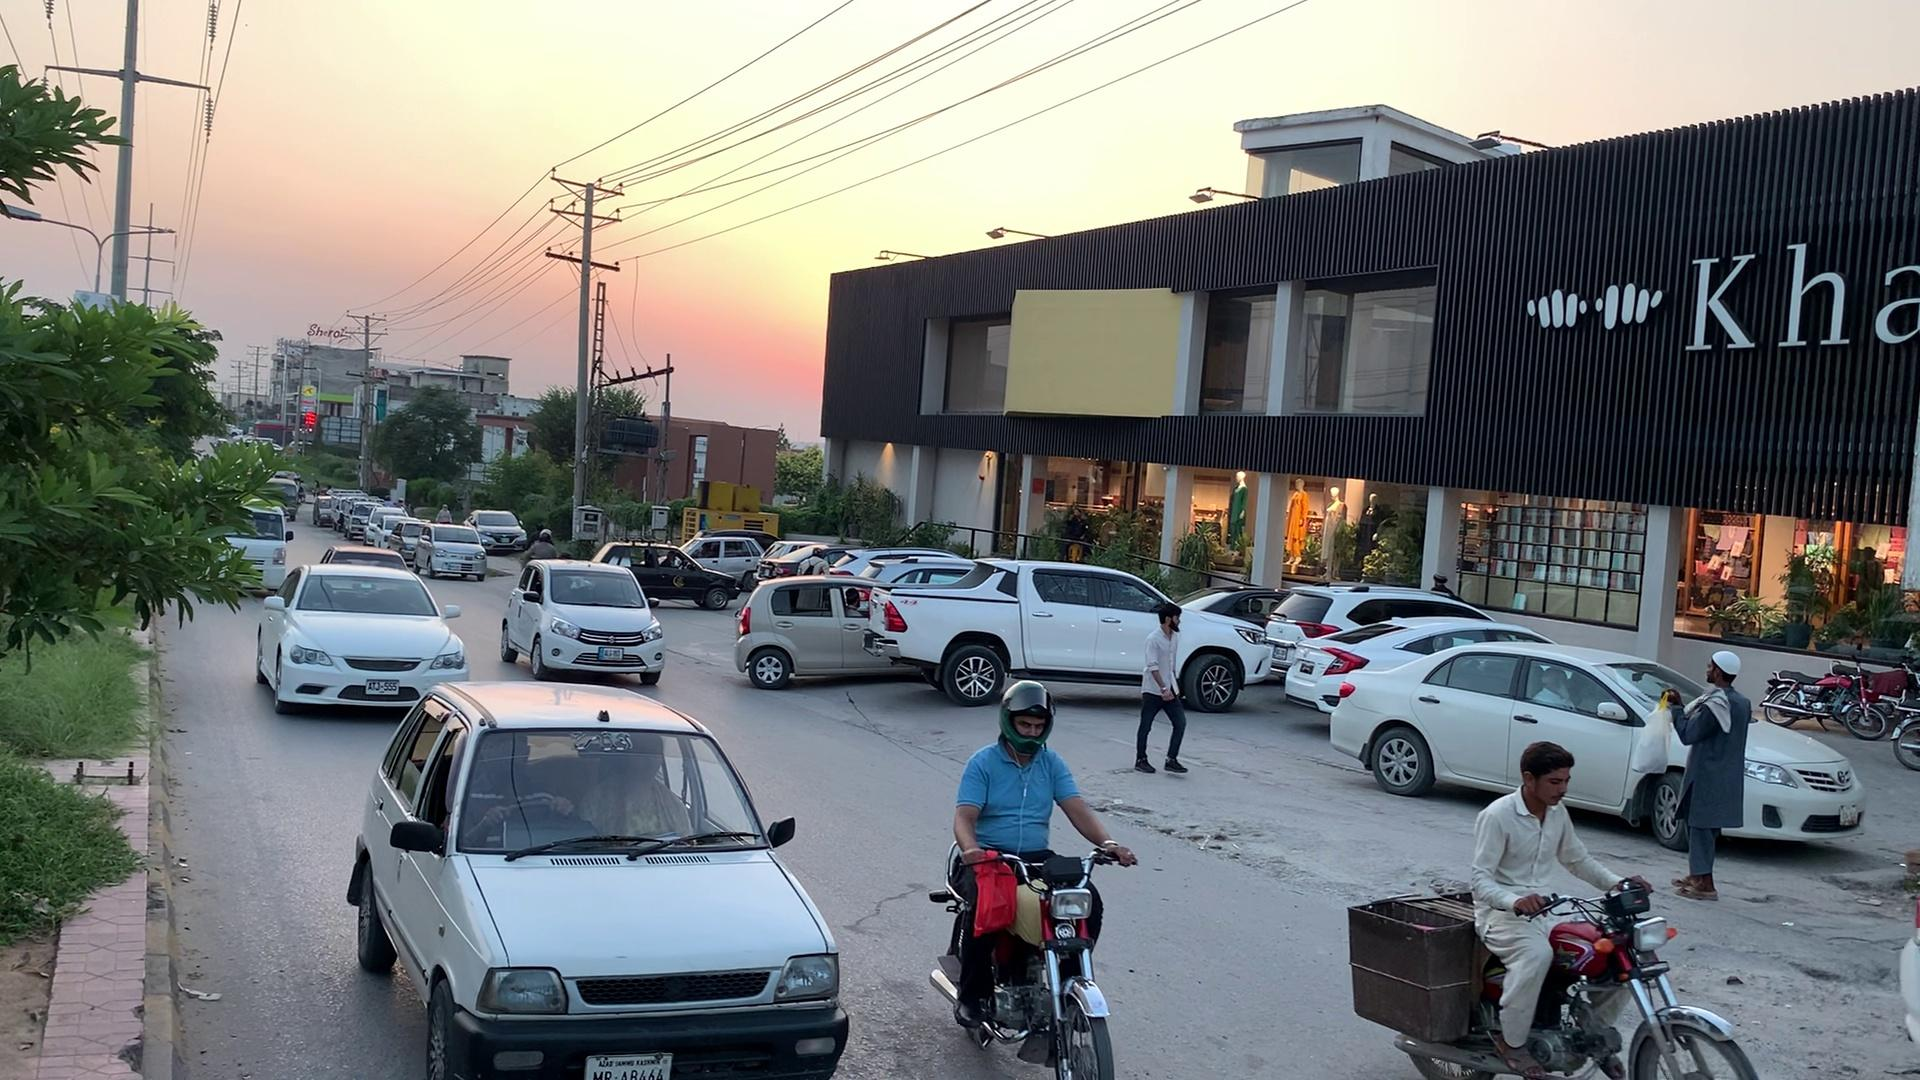windshield: (458, 707, 787, 880)
